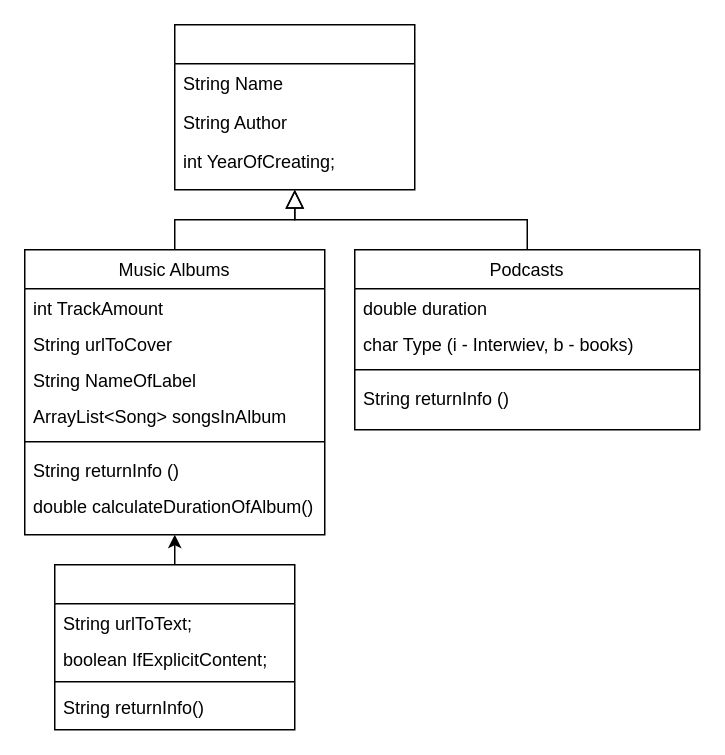
This 725x755 diagram has some shape labels left out. Here are the shapes that lost their labels. From the top down, the box of each, then its label:
(173, 23, 415, 190): Audio Content
(53, 563, 295, 730): Song
